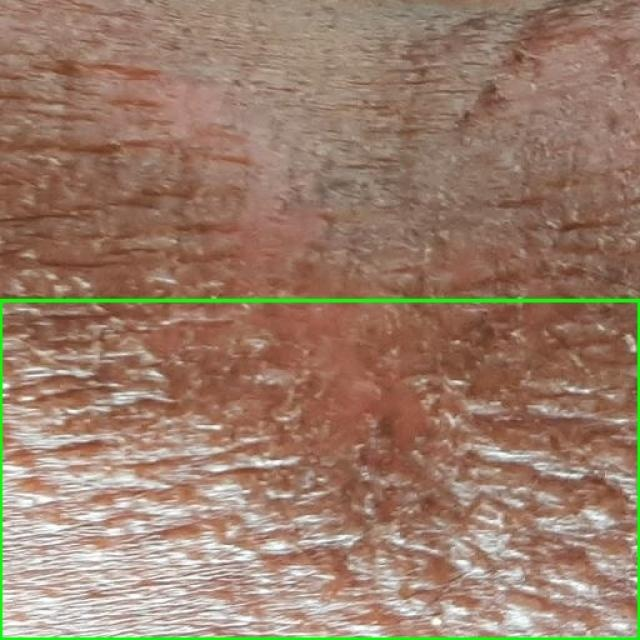Seborrheic Dermatitis: (0, 300, 639, 639)
